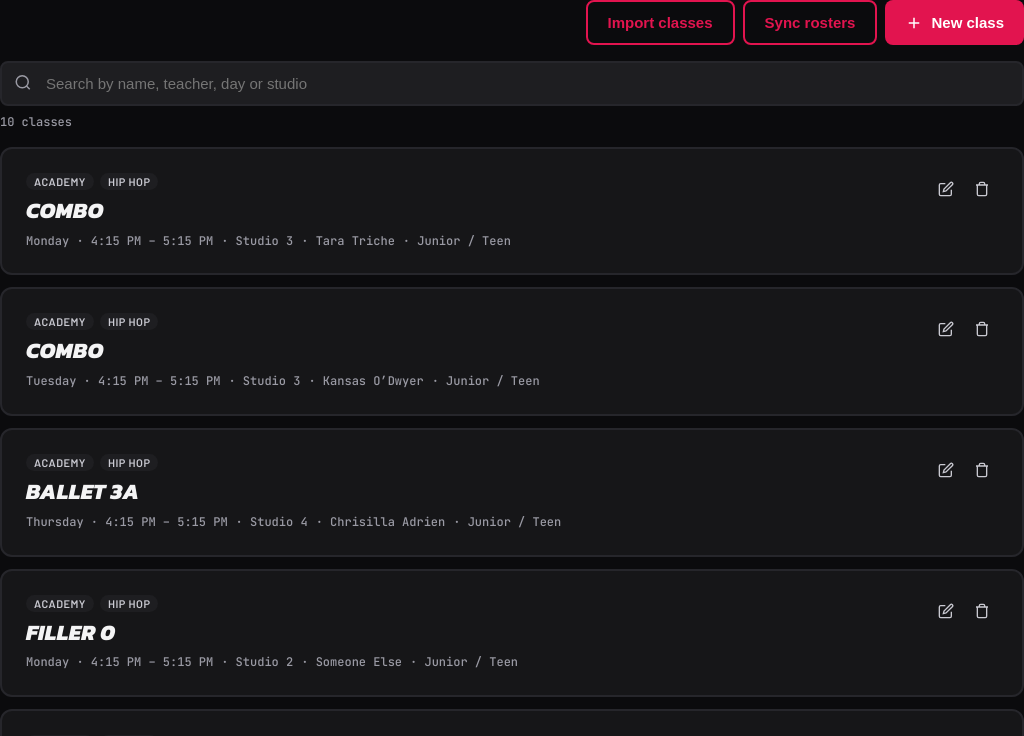
Test: a program with a real number of classes › finds a class by the day it runs, which is not text on the row
Type "thursday" into the field named "Search classes" at x=512, y=84, box [0,61,1023,106]
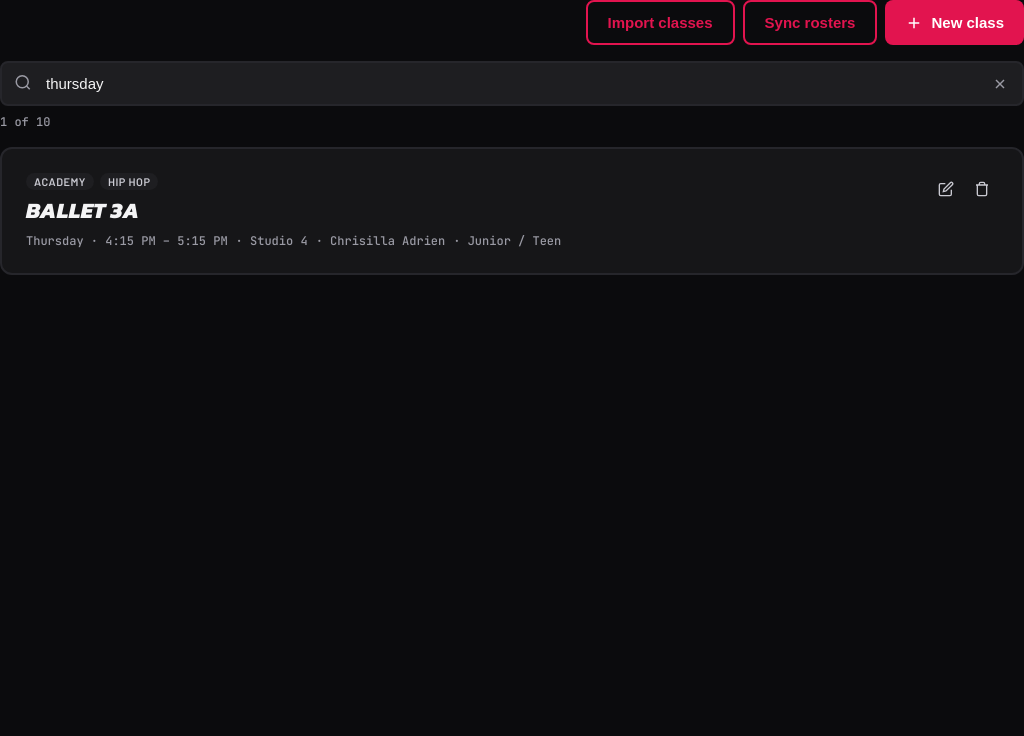
Expected: the heading "Ballet 3A" is shown, [26,194,140,227]
Expected: the text "1 of 10" is shown, [0,114,50,130]
